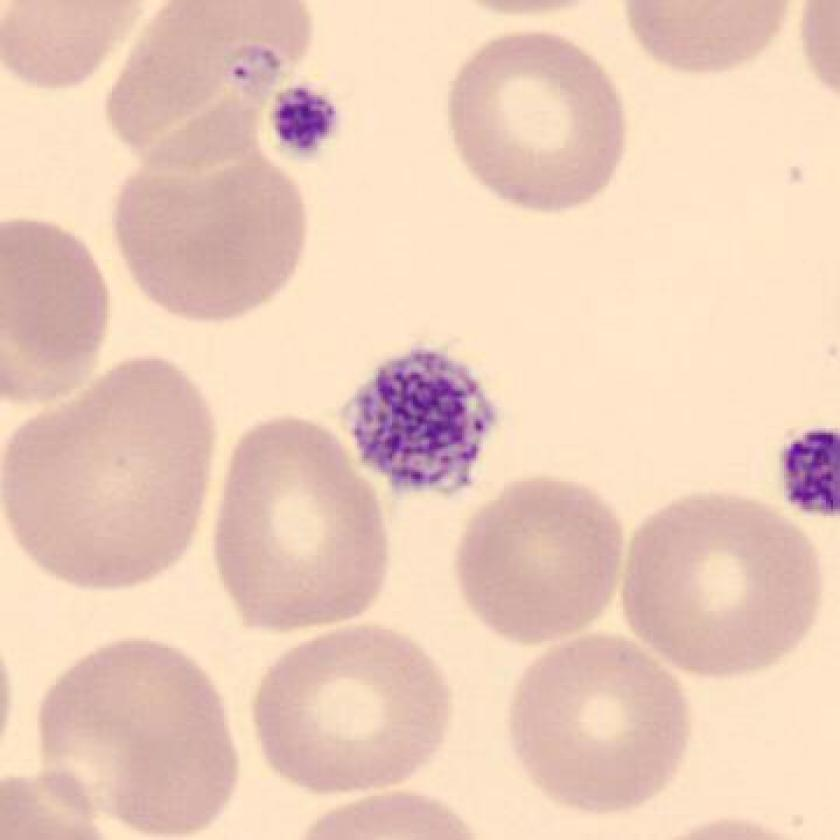platelets: (335, 334, 510, 510), (262, 75, 351, 170), (768, 415, 840, 524)
